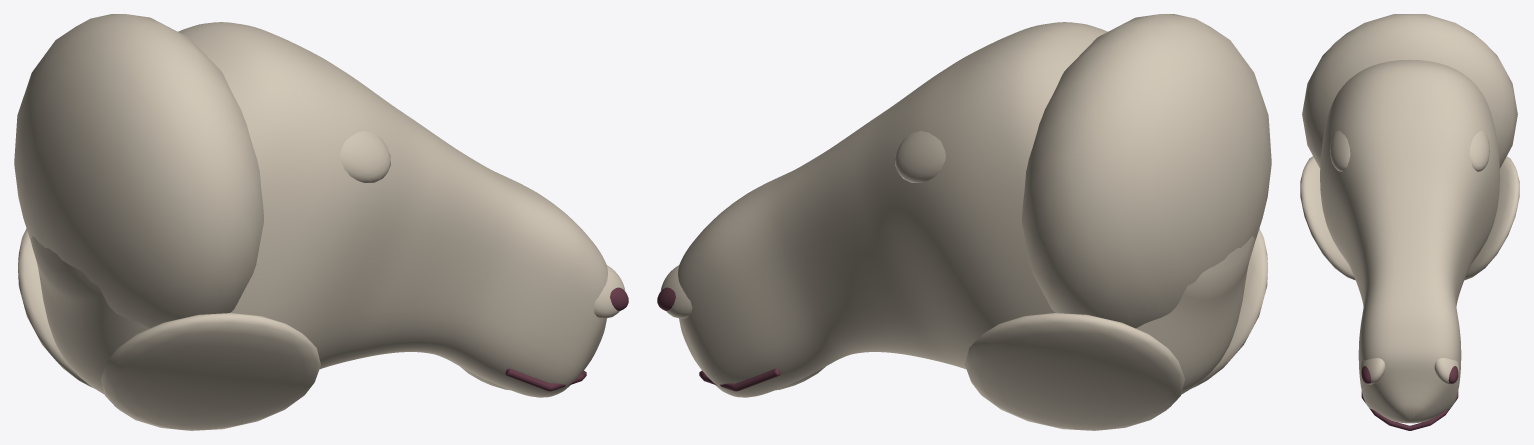
The model's file is creature.horsehead.glb.
3 renders of one model, left to right at view 1: azimuth 30°, elevation 25°; view 2: azimuth 150°, elevation 25°; view 3: azimuth 270°, elevation 25°, orthographic. The views are drawn at different scales.
Visible parts, largest first — view 1: Skin, Dark; view 2: Skin, Dark; view 3: Skin, Dark.
Part boxes in pixels (x1,y1,x2,y2): Skin: (14,14,625,430); Dark: (505,287,628,391); Skin: (660,14,1271,430); Dark: (657,287,780,391); Skin: (1300,14,1519,423); Dark: (1361,366,1458,430).
Bounding box in the file's own units: 3.68 × 2.9 × 2.03.
